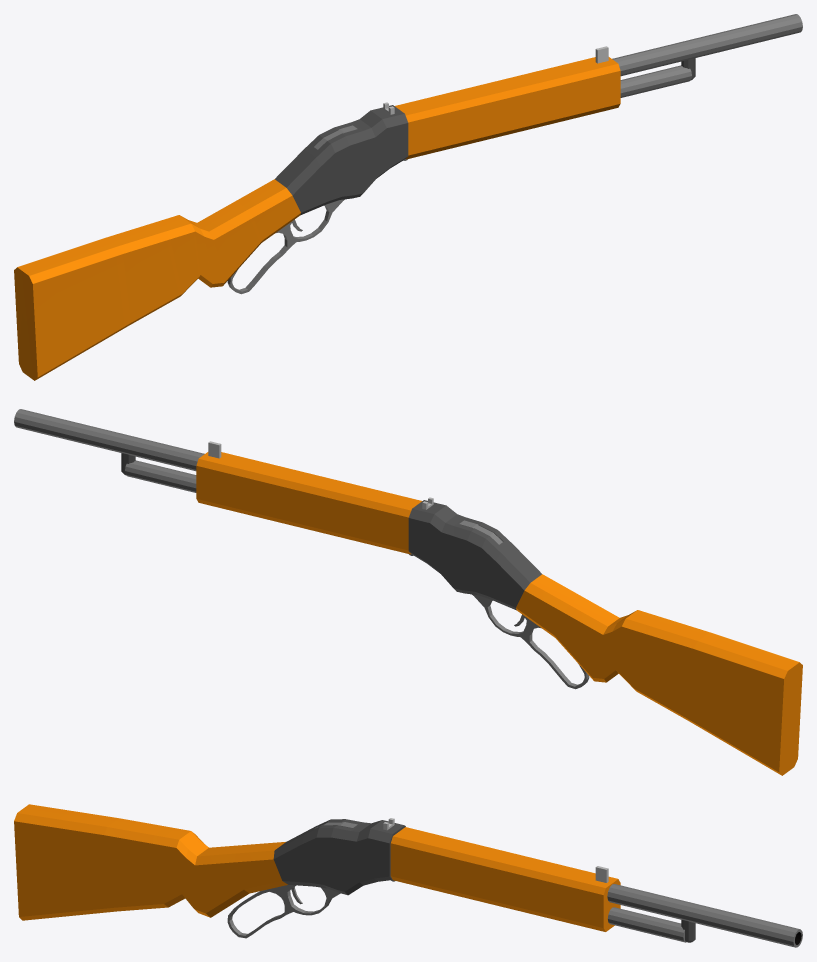
The model's file is 1887Winchester.fbx.
3 renders of one model, top to bottom at view 1: azimuth 30°, elevation 25°; view 2: azimuth 150°, elevation 25°; view 3: azimuth 330°, elevation 25°, orthographic.
Parts seen in each view (by area): view 1: Cube.001, Cube.005, Cube.000, Cube.003; view 2: Cube.001, Cube.005, Cube.000, Cube.003; view 3: Cube.001, Cube.005, Cube.000, Cube.003.
Part boxes in pixels (bbox=[...]): Cube.001: bbox=[14, 105, 408, 380]; Cube.005: bbox=[395, 46, 695, 160]; Cube.000: bbox=[612, 14, 802, 97]; Cube.003: bbox=[227, 199, 344, 294]; Cube.001: bbox=[408, 500, 802, 775]; Cube.005: bbox=[121, 441, 421, 555]; Cube.000: bbox=[14, 409, 204, 492]; Cube.003: bbox=[472, 594, 589, 689]; Cube.001: bbox=[14, 804, 405, 920]; Cube.005: bbox=[390, 827, 695, 942]; Cube.000: bbox=[607, 884, 802, 947]; Cube.003: bbox=[227, 885, 340, 938].
Bounding box in the file's own units: 924 × 215 × 38.92.
